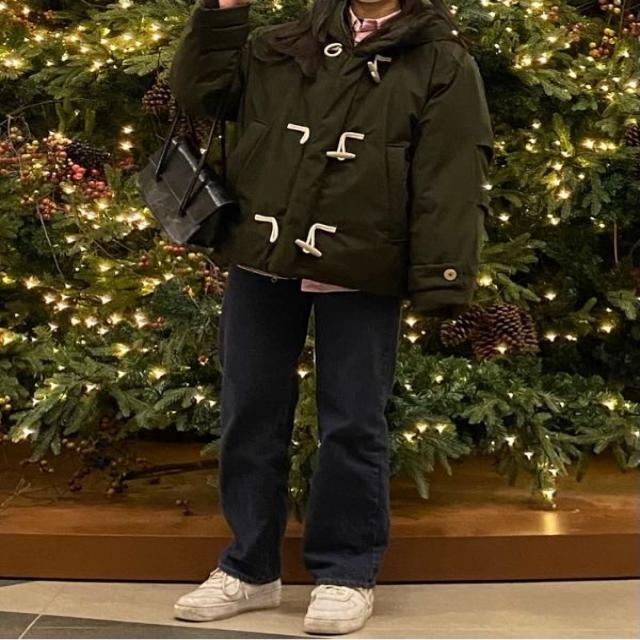denimpants: (214, 262, 400, 590)
padding: (178, 0, 486, 314)
